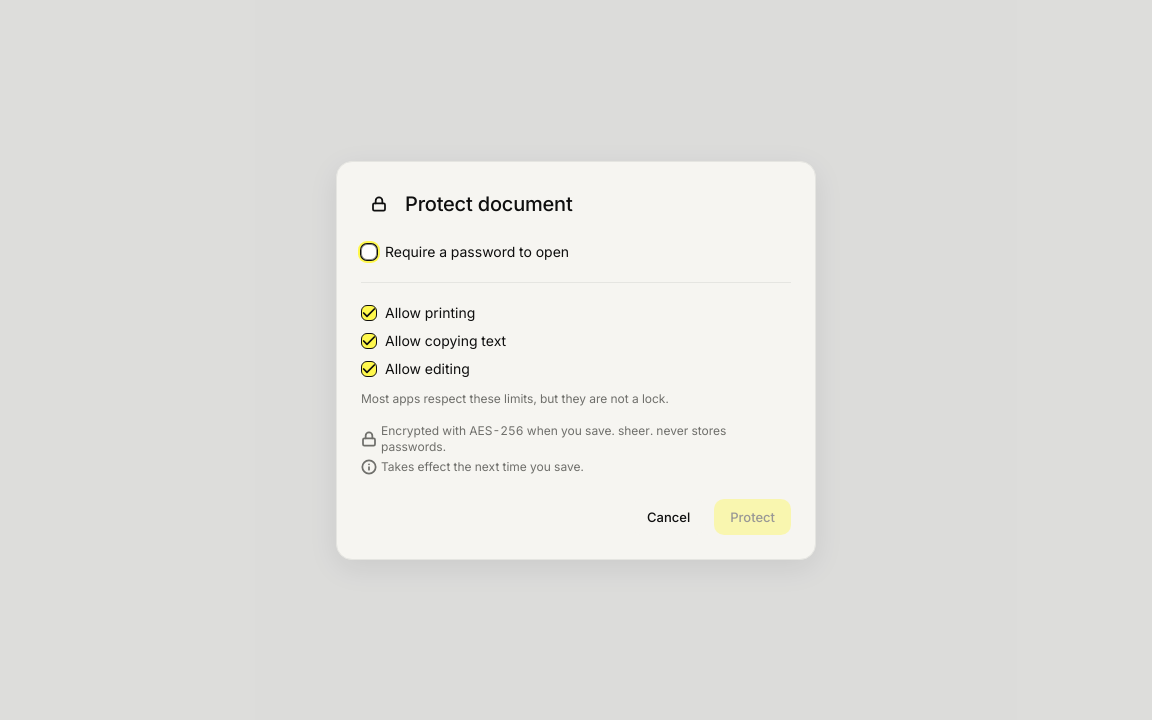
Test: the Protect sheet › shows the strength meter word by password strength
Click the checkbox labelled "Require a password to open" at (369, 252), box [361,244,377,260]
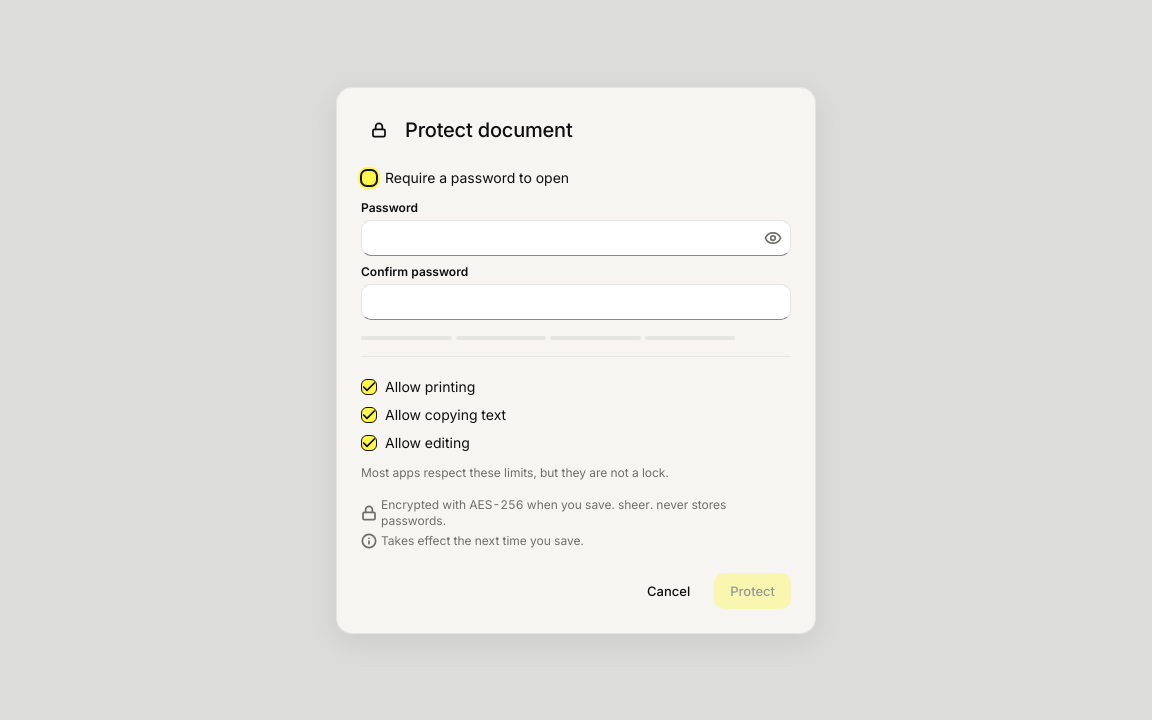
Type "abc" into the password field labelled "Password" at (576, 238), box [361,220,791,256]
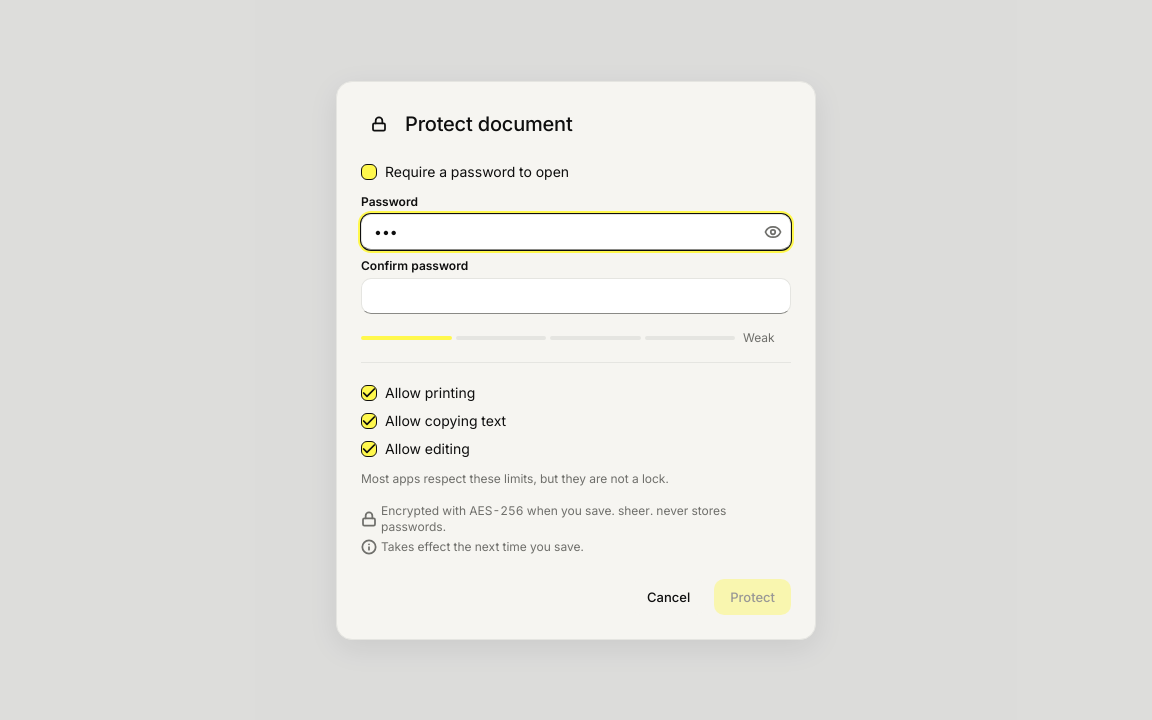
expect the element named "Password strength" reads "Weak": met, box [743,330,775,344]
Clear the password field labelled "Password" at (576, 232), box [361,214,791,250]
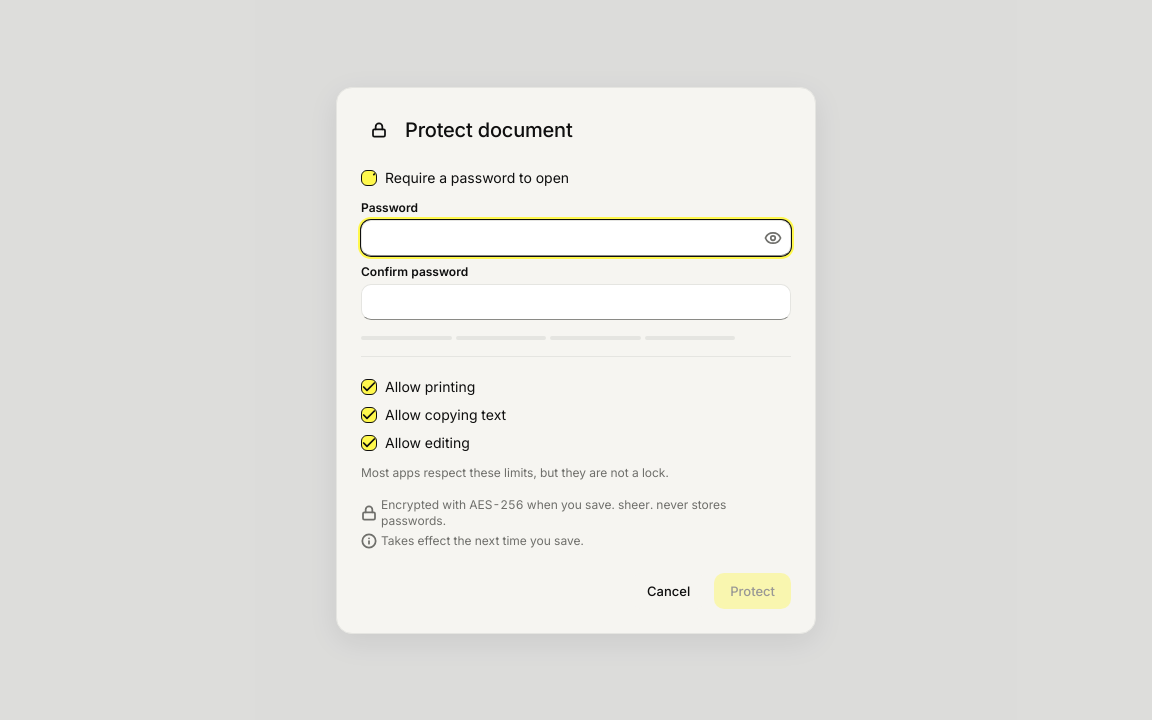
Type "abcdefgh" into the password field labelled "Password" at (576, 238), box [361,220,791,256]
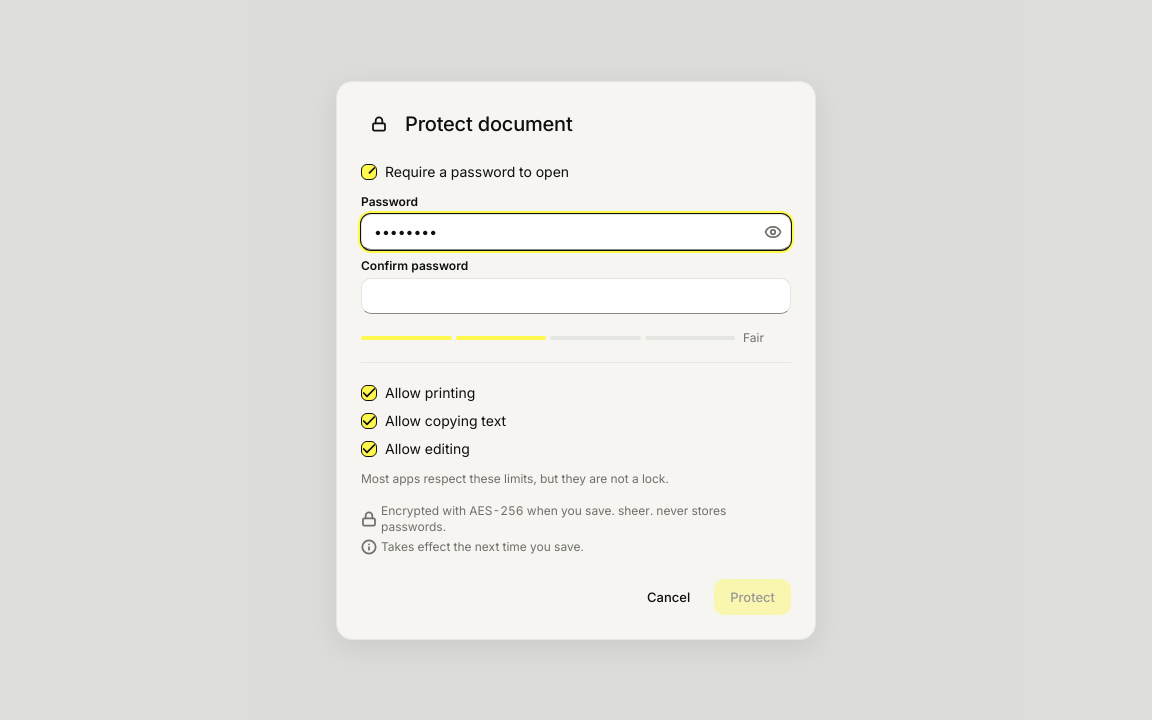
expect the element named "Password strength" reads "Fair": met, box [743,330,764,344]
Clear the password field labelled "Password" at (576, 232), box [361,214,791,250]
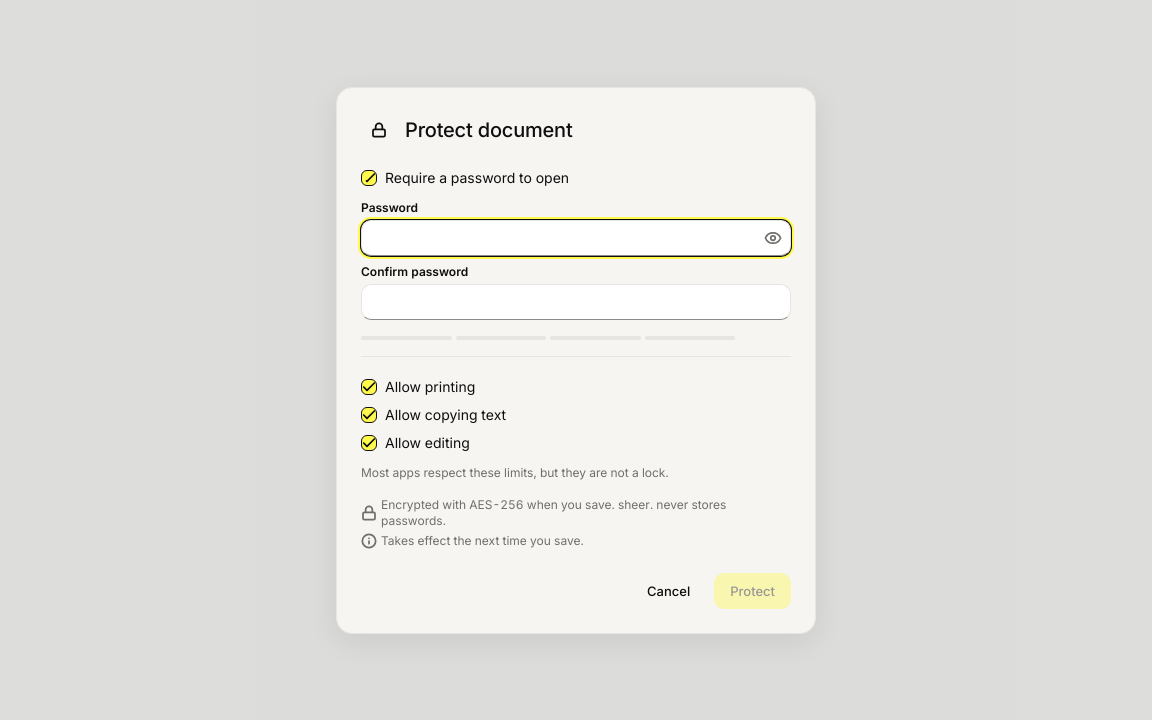
Type "Abcdefgh1234" into the password field labelled "Password" at (576, 238), box [361,220,791,256]
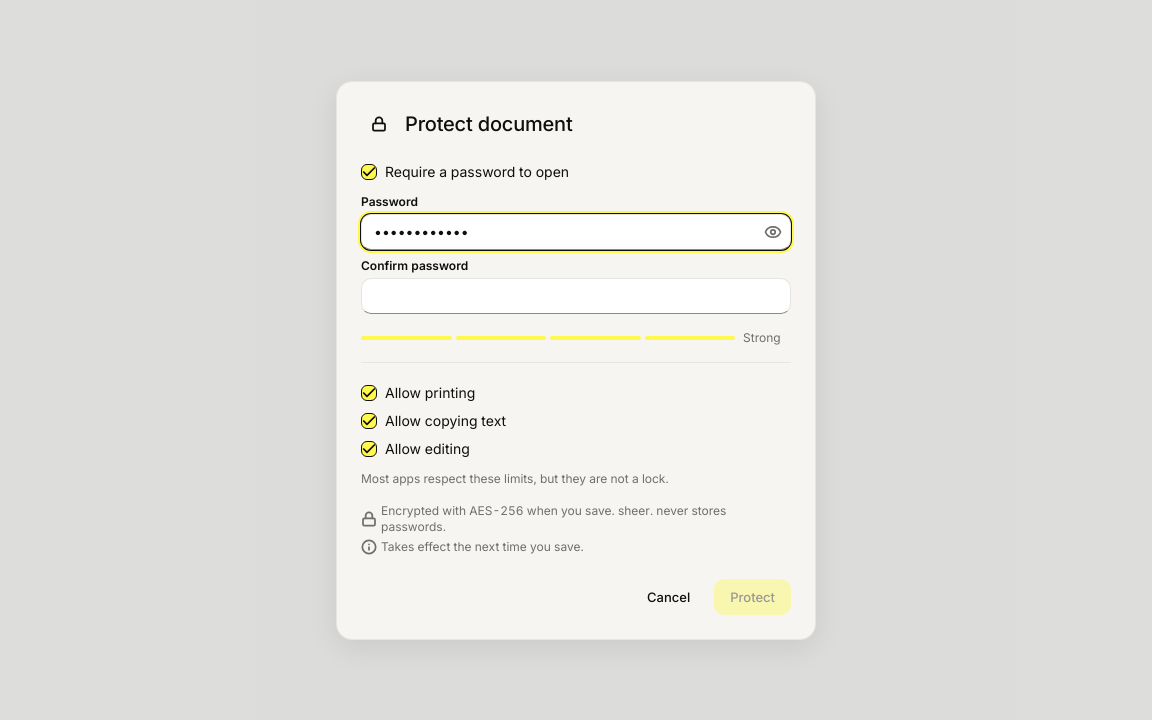
expect the element named "Password strength" reads "Strong": met, box [743,330,781,344]
